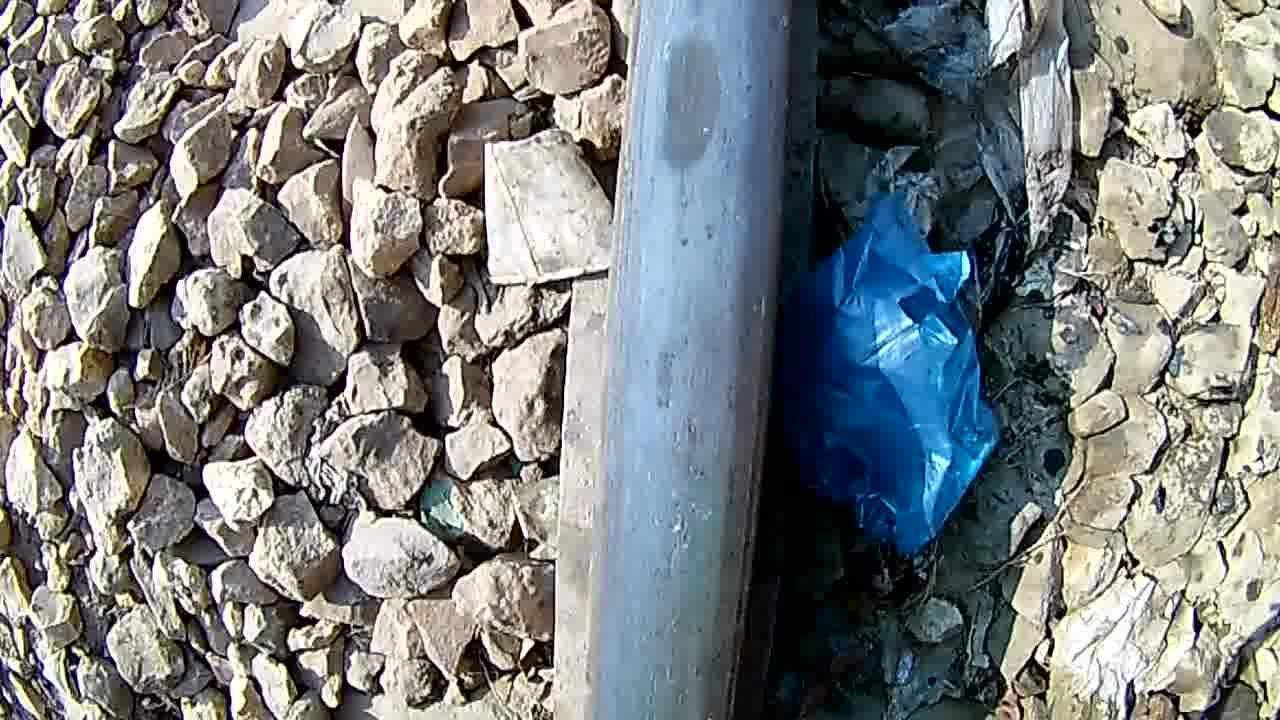crack: (623, 0, 770, 254)
